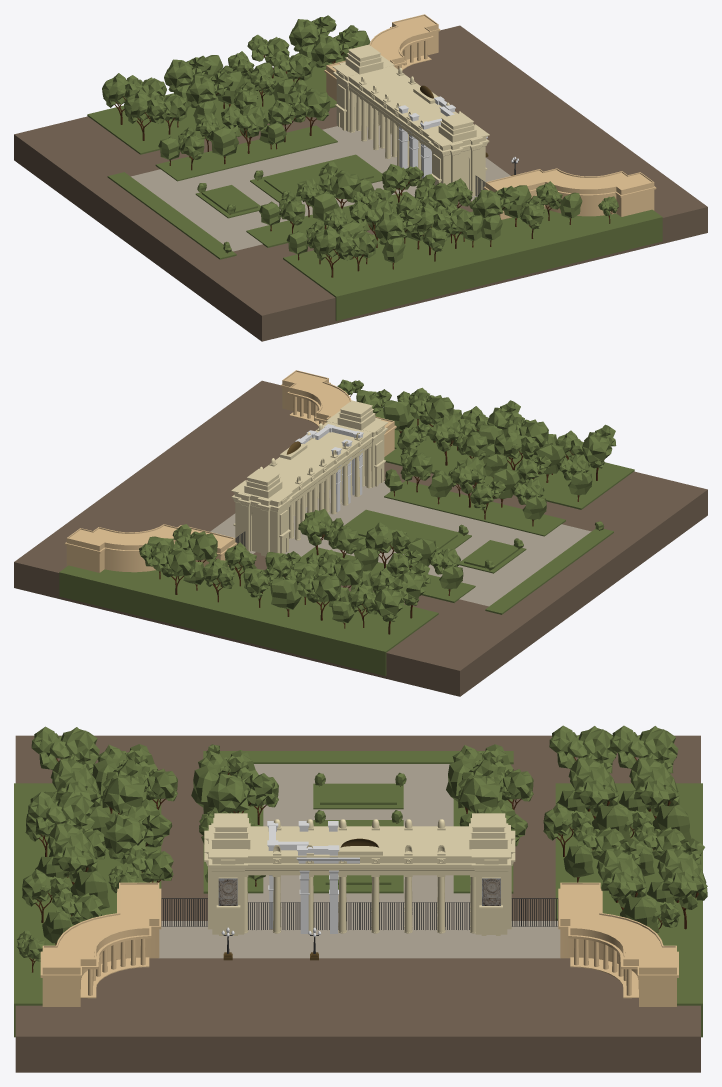
Rendered from Arka_PG.glb.
3 renders of one model, top to bottom at view 1: azimuth 30°, elevation 25°; view 2: azimuth 150°, elevation 25°; view 3: azimuth 270°, elevation 25°, orthographic. The views are drawn at different scales.
Visible parts, largest first — view 1: Plane, Plane.004, Cube.025, Plane.002, Cube.029, Trunk.001, Trunk.006, Trunk.015, Trunk.036, Trunk.025, Trunk.005, Trunk.026 (+22 smaller); view 2: Plane, Plane.004, Cube.025, Plane.002, Cube.029, Trunk.039, Trunk.031, Trunk.021, Trunk.006, Trunk.036, Trunk.026, Trunk.011 (+26 smaller); view 3: Plane, Cube.025, Plane.004, Cube.029, Plane.002, Plane.001, Plane.005, Trunk.010, Trunk.001, Plane.003, Trunk.030, Trunk.015 (+39 smaller).
Part boxes in pixels (<box>): Plane: <box>14,25,707,341</box>; Plane.004: <box>87,56,662,320</box>; Cube.025: <box>332,44,489,196</box>; Plane.002: <box>131,125,420,251</box>; Cube.029: <box>324,14,656,219</box>; Trunk.001: <box>318,161,360,208</box>; Trunk.006: <box>221,104,268,153</box>; Trunk.015: <box>312,225,355,277</box>; Trunk.036: <box>311,31,358,69</box>; Trunk.025: <box>124,89,166,140</box>; Trunk.005: <box>288,80,330,135</box>; Trunk.026: <box>186,72,233,108</box>; Plane: <box>14,380,707,696</box>; Plane.004: <box>59,408,634,675</box>; Cube.025: <box>231,400,388,556</box>; Plane.002: <box>284,481,591,606</box>; Cube.029: <box>64,370,396,572</box>; Trunk.039: <box>150,540,195,594</box>; Trunk.031: <box>296,565,341,620</box>; Trunk.021: <box>408,387,453,442</box>; Trunk.006: <box>365,522,410,568</box>; Trunk.036: <box>172,524,217,562</box>; Trunk.026: <box>318,549,363,588</box>; Trunk.011: <box>494,428,539,470</box>; Plane: <box>15,735,700,1072</box>; Cube.025: <box>204,813,515,935</box>; Plane.004: <box>14,751,702,1037</box>; Cube.029: <box>40,882,678,1006</box>; Plane.002: <box>229,764,475,933</box>; Plane.001: <box>159,921,560,958</box>; Plane.005: <box>248,902,470,929</box>; Trunk.010: <box>104,814,172,864</box>; Trunk.001: <box>206,773,274,813</box>; Plane.003: <box>161,898,558,926</box>; Trunk.030: <box>610,725,678,768</box>; Trunk.015: <box>31,726,99,770</box>.
Bounding box in the file's own units: 153 × 32.31 × 150.
11 materials, 1 textured.
